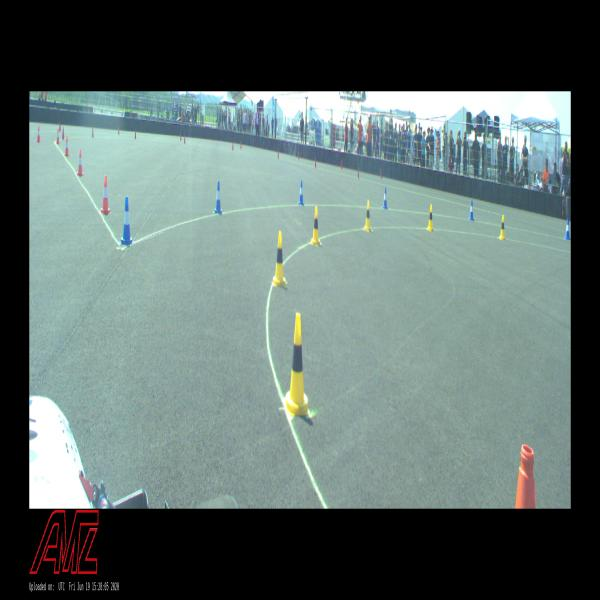blue_cone: (121, 196, 132, 244), (214, 181, 222, 213), (298, 180, 304, 205), (468, 200, 474, 220), (565, 218, 570, 240), (383, 187, 387, 208)
orange_cone: (101, 176, 110, 213), (77, 150, 83, 175), (65, 137, 69, 156), (56, 128, 60, 143), (36, 127, 40, 142)
unknown_cone: (62, 126, 64, 139), (92, 126, 94, 137), (298, 150, 300, 160), (184, 134, 186, 144), (180, 132, 182, 141), (240, 141, 242, 149), (232, 142, 234, 150), (118, 126, 120, 134), (381, 168, 382, 179), (358, 167, 359, 178), (315, 157, 316, 168), (341, 160, 342, 169), (135, 130, 136, 139), (278, 150, 279, 158), (60, 124, 61, 131)
yellow_cone: (284, 314, 310, 415), (273, 232, 286, 286), (311, 206, 320, 245), (364, 201, 371, 230), (428, 205, 434, 231), (500, 215, 505, 240)
